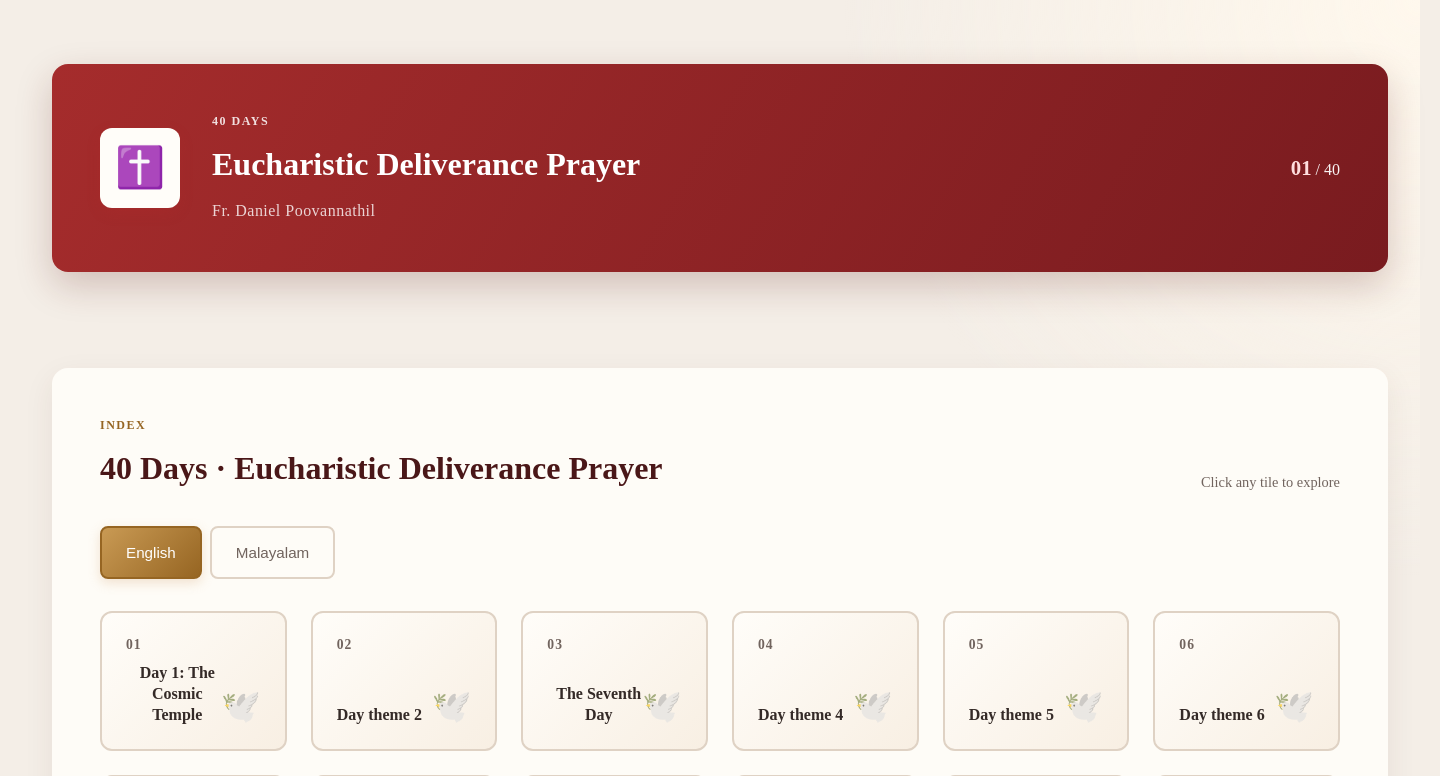
shows the selected page information when a tile is clicked
Click the button named "03 the seventh day": (615,681) [521,611,708,751]
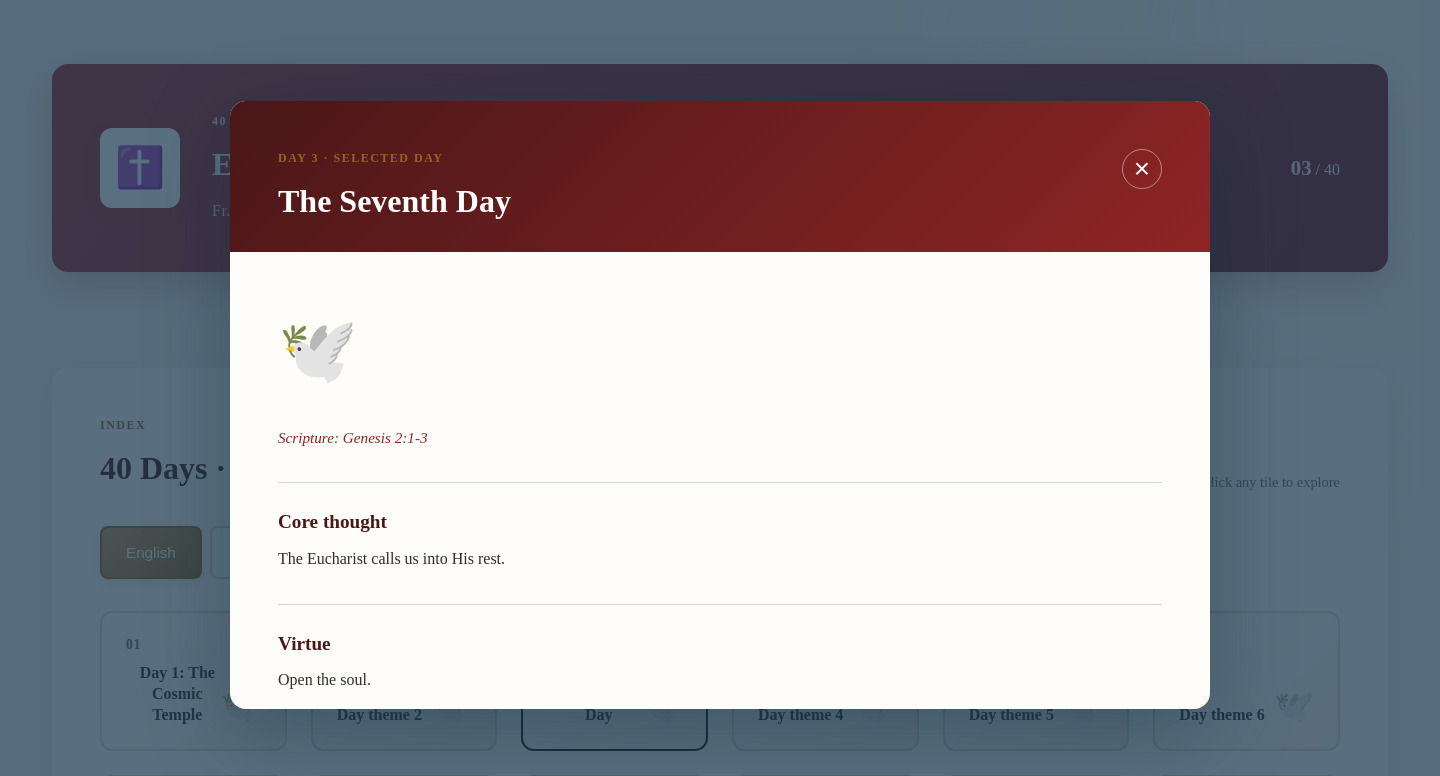
Check: the heading "The Seventh Day" is shown, box [278,176,511,228]
Check: the text "The Eucharist calls us into His rest." is shown, box [278,550,505,567]
